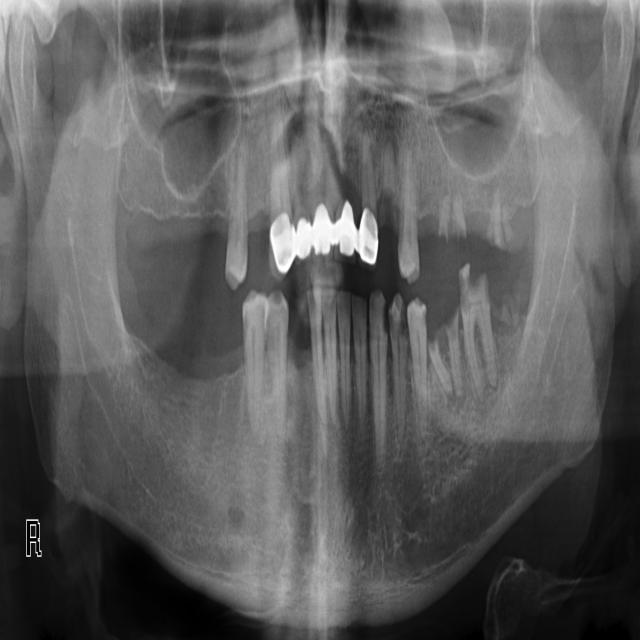tooth: (460, 265, 492, 391), (225, 150, 247, 287), (369, 293, 387, 454), (398, 150, 419, 281), (265, 293, 287, 400), (242, 292, 265, 394), (389, 298, 408, 412), (409, 297, 428, 396), (353, 289, 367, 422), (269, 214, 295, 279), (324, 289, 336, 426), (428, 320, 450, 393), (339, 290, 351, 422), (310, 287, 322, 418), (361, 130, 376, 224), (336, 201, 357, 256), (358, 210, 378, 264), (314, 203, 334, 257), (448, 320, 462, 389), (384, 142, 397, 209), (452, 195, 465, 237), (438, 196, 450, 237)
